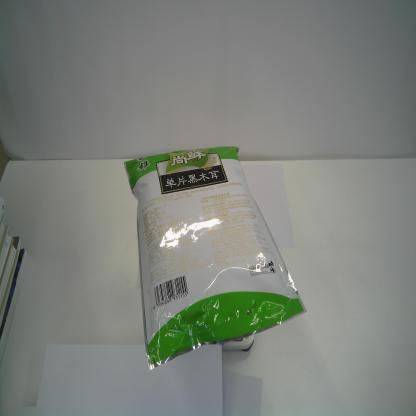Dried Food: (121, 144, 307, 372)
